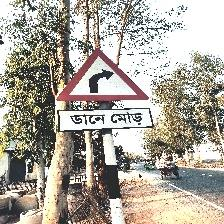Right-turn: (55, 48, 154, 136)
